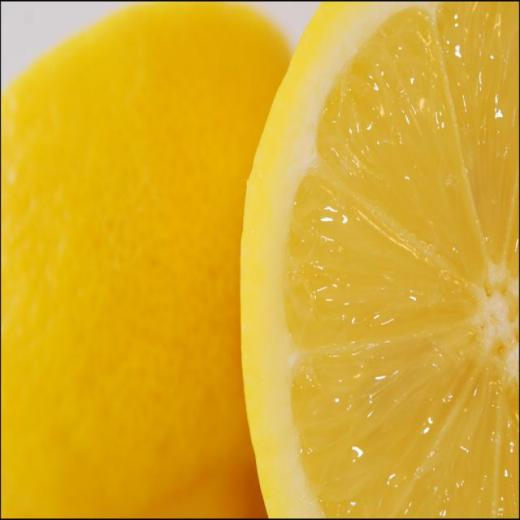Grape: (1, 1, 291, 519)
